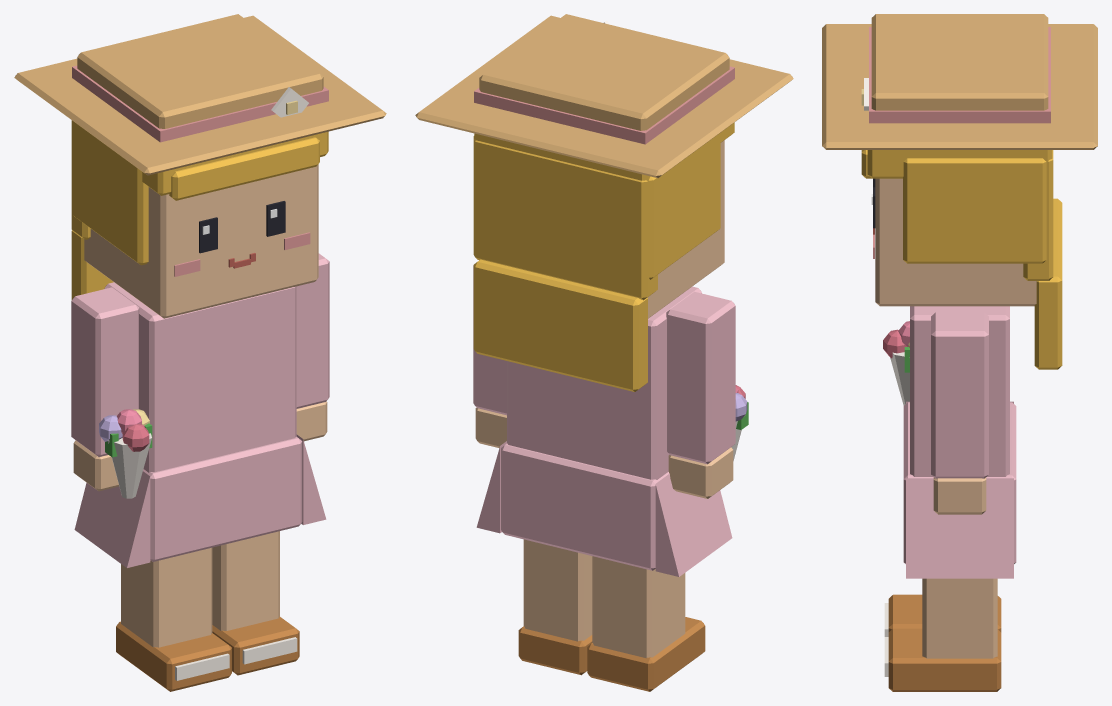
The model's file is CatCafe_NPC_Customer_H.glb.
3 views of the same model, side by side, from view 1: azimuth 30°, elevation 25°; view 2: azimuth 150°, elevation 25°; view 3: azimuth 270°, elevation 25° (orthographic). The views are drawn at different scales.
Parts seen in each view (by area): view 1: CatCafe_NPC_Customer_H; view 2: CatCafe_NPC_Customer_H; view 3: CatCafe_NPC_Customer_H.
Part boxes in pixels (bbox=[...]): CatCafe_NPC_Customer_H: bbox=[14, 14, 386, 691]; CatCafe_NPC_Customer_H: bbox=[415, 14, 793, 691]; CatCafe_NPC_Customer_H: bbox=[822, 14, 1097, 691].
Bounding box in the file's own units: 2.3 × 5.34 × 2.2.
1 material, 1 textured.
